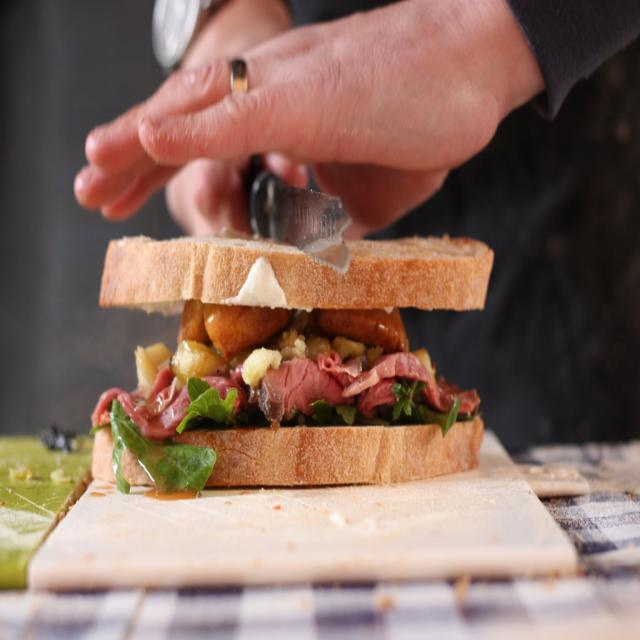Sandwich: (89, 226, 495, 488)
